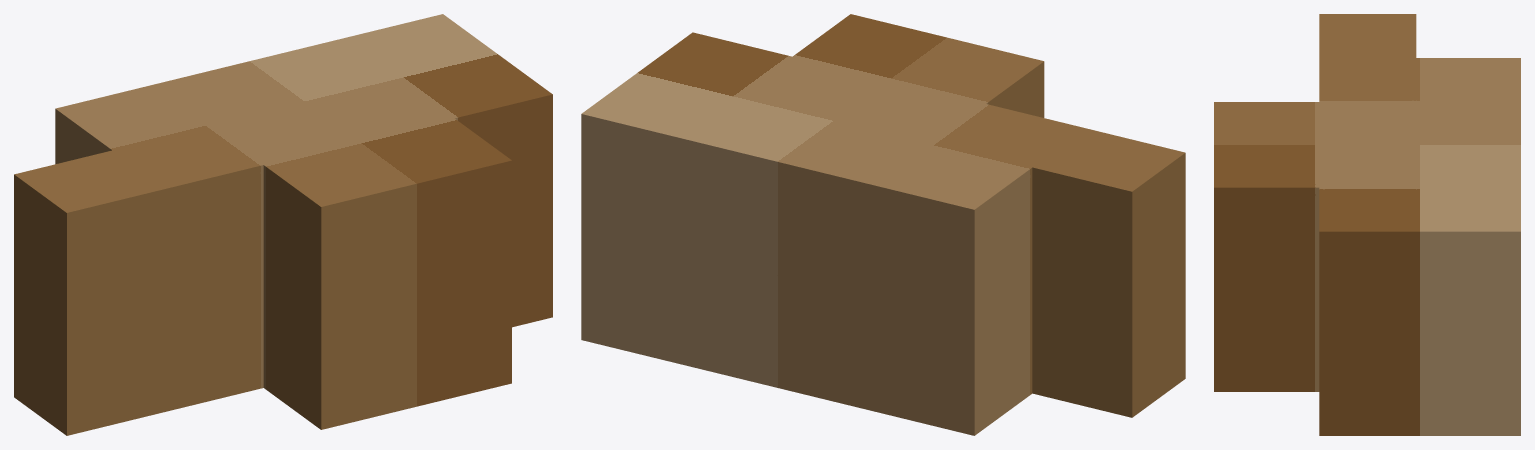
Rendered from garbage_415x25.gltf.
The picture shows the model from 3 angles, left to right: view 1: azimuth 30°, elevation 25°; view 2: azimuth 150°, elevation 25°; view 3: azimuth 270°, elevation 25°; orthographic projection. The views are drawn at different scales.
Parts seen in each view (by area): view 1: garbage_415x25; view 2: garbage_415x25; view 3: garbage_415x25.
Part boxes in pixels (bbox=[...]): garbage_415x25: bbox=[14, 14, 552, 435]; garbage_415x25: bbox=[581, 14, 1185, 435]; garbage_415x25: bbox=[1214, 14, 1520, 435].
Size of the model in its own units: 0.3073 by 0.1347 by 0.1833.
Materials: 1 (1 with a texture image).
